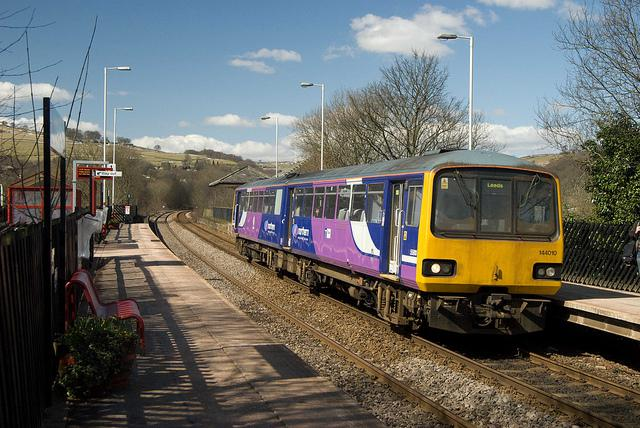Train: (233, 150, 563, 339)
